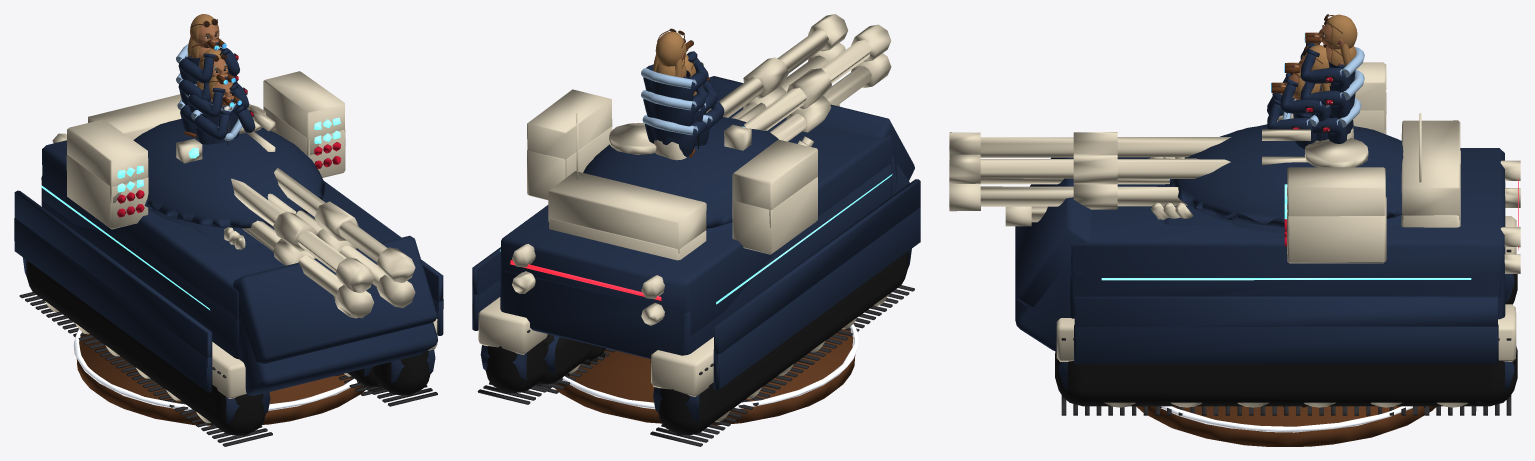
Rendered from bjoern_hellerup.glb.
3 renders of one model, left to right at view 1: azimuth 30°, elevation 25°; view 2: azimuth 150°, elevation 25°; view 3: azimuth 270°, elevation 25°, orthographic. The views are drawn at different scales.
Parts seen in each view (by area): view 1: op4.001_net, ned4.002_net, fod_net, ned1.001_net, op4.002_net, ned2.001_net, ned2.002_net, op4_net, ned3.002_net, ned4_net, ned2_net; view 2: op4.001_net, ned4.002_net, fod_net, ned3.002_net, op4.002_net, ned4_net, ned3_net, op4_net, ned2.001_net, ned1.001_net, ned2.002_net; view 3: op4.001_net, ned4.002_net, fod_net, op4.002_net, ned2.001_net, ned4_net, op4_net, ned1.001_net, ned2.002_net, ned3_net, ned3.002_net.
Part boxes in pixels (x1,y1,x2,y2): op4.001_net: [14, 71, 443, 398]; ned4.002_net: [14, 107, 443, 446]; fod_net: [73, 329, 364, 425]; ned1.001_net: [191, 95, 255, 144]; op4.002_net: [176, 38, 239, 83]; ned2.001_net: [194, 38, 314, 249]; ned2.002_net: [185, 72, 249, 139]; op4_net: [187, 14, 219, 56]; ned3.002_net: [264, 296, 383, 420]; ned4_net: [176, 72, 239, 137]; ned2_net: [196, 48, 228, 89]; op4.001_net: [472, 14, 920, 396]; ned4.002_net: [472, 43, 920, 446]; fod_net: [555, 324, 858, 425]; ned3.002_net: [533, 104, 839, 418]; op4.002_net: [641, 44, 708, 160]; ned4_net: [641, 86, 708, 157]; ned3_net: [642, 113, 707, 157]; op4_net: [653, 28, 686, 77]; ned2.001_net: [544, 102, 813, 376]; ned1.001_net: [695, 99, 724, 145]; ned2.002_net: [692, 80, 717, 148]; op4.001_net: [949, 62, 1520, 361]; ned4.002_net: [949, 92, 1520, 415]; fod_net: [1136, 406, 1436, 446]; op4.002_net: [1300, 32, 1364, 139]; ned2.001_net: [1148, 113, 1424, 407]; ned4_net: [1300, 70, 1364, 133]; op4_net: [1318, 14, 1357, 65]; ned1.001_net: [1267, 83, 1318, 148]; ned2.002_net: [1280, 63, 1331, 141]; ned3_net: [1299, 98, 1361, 143]; ned3.002_net: [1005, 206, 1047, 226].
Size of the model in its own units: 1.94 by 2.26 by 3.24.
